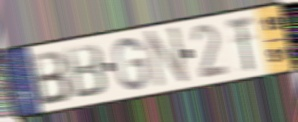2: (190, 22, 230, 82)
B: (28, 48, 73, 108), (63, 42, 108, 102)
G: (112, 36, 150, 92)
N: (145, 24, 191, 90)
T: (225, 13, 256, 74)
